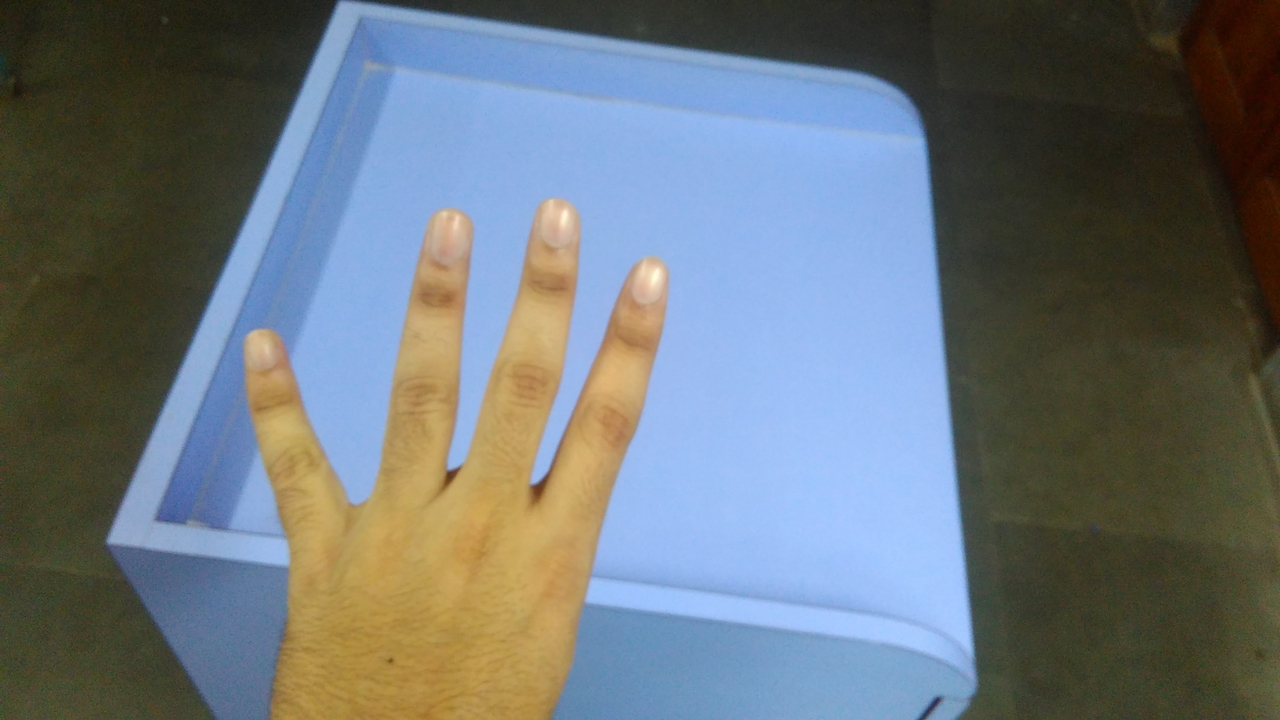fingertip: (516, 186, 588, 252), (610, 248, 680, 312), (408, 200, 480, 260), (226, 322, 294, 384)
